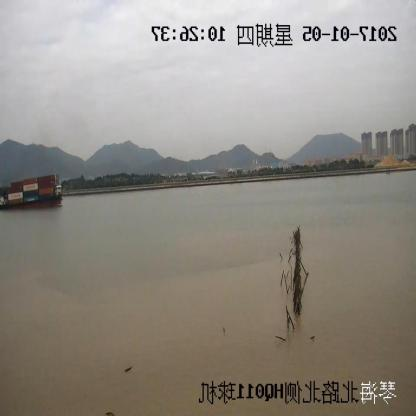Container Ship: (1, 176, 64, 210)
